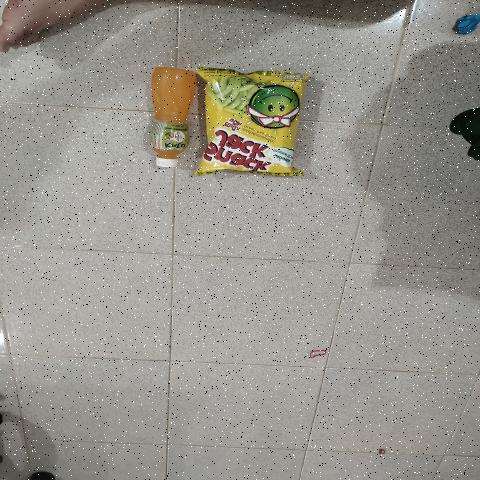snack_jack: (220, 86, 285, 162)
